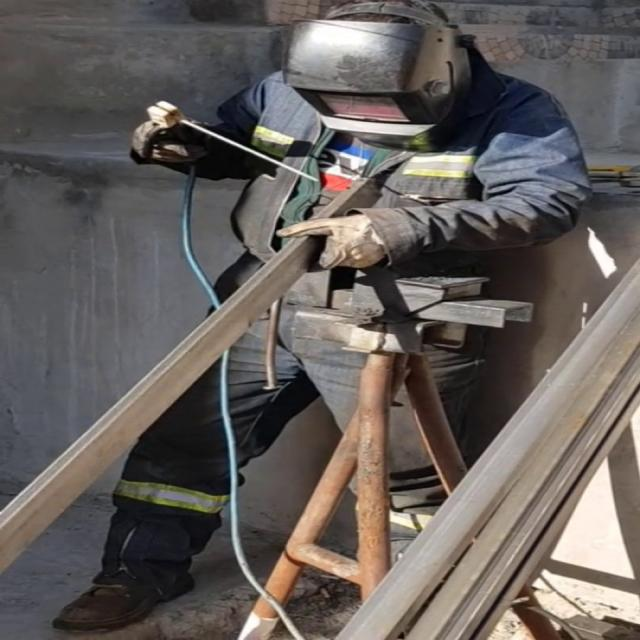gloved: (272, 212, 388, 271), (128, 114, 210, 164)
